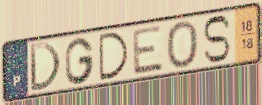D: (27, 41, 63, 94), (97, 30, 131, 83)
E: (131, 23, 166, 77)
G: (64, 35, 96, 86)
O: (165, 19, 199, 71)
S: (201, 13, 233, 65)
